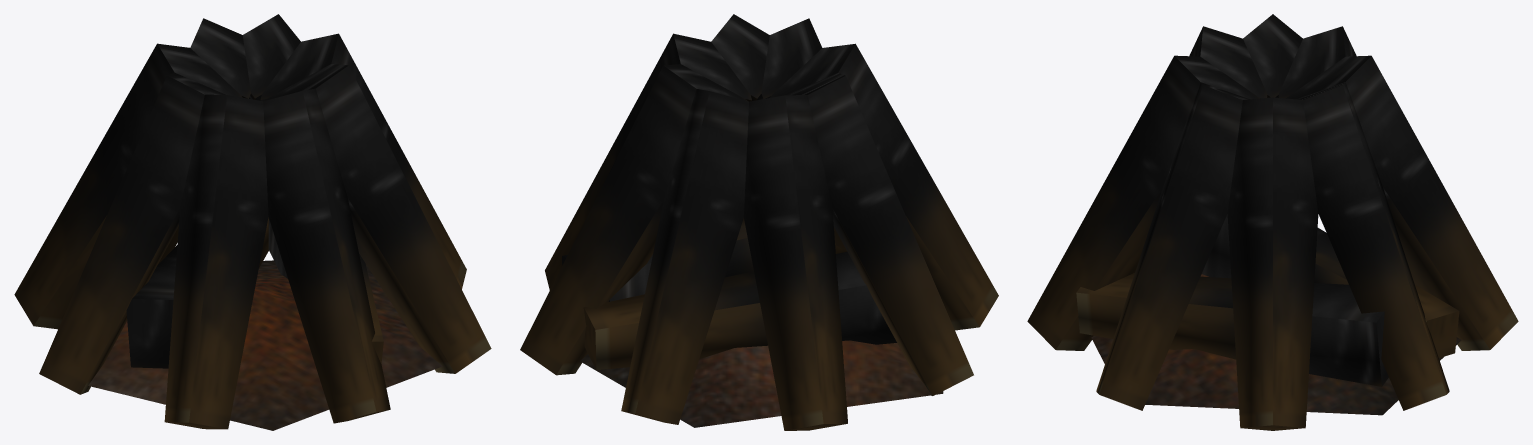
File: ognisko.FBX
The picture shows the model from 3 angles, left to right: view 1: azimuth 30°, elevation 25°; view 2: azimuth 150°, elevation 25°; view 3: azimuth 270°, elevation 25°; orthographic projection.
Visible parts, largest first — view 1: Cylinder004; view 2: Cylinder004; view 3: Cylinder004.
Part boxes in pixels (x1,y1,x2,y2): Cylinder004: (14, 14, 491, 430); Cylinder004: (520, 14, 998, 430); Cylinder004: (1027, 14, 1518, 430).
Size of the model in its own units: 3.11 by 2.06 by 3.11.
1 material, 1 textured.
